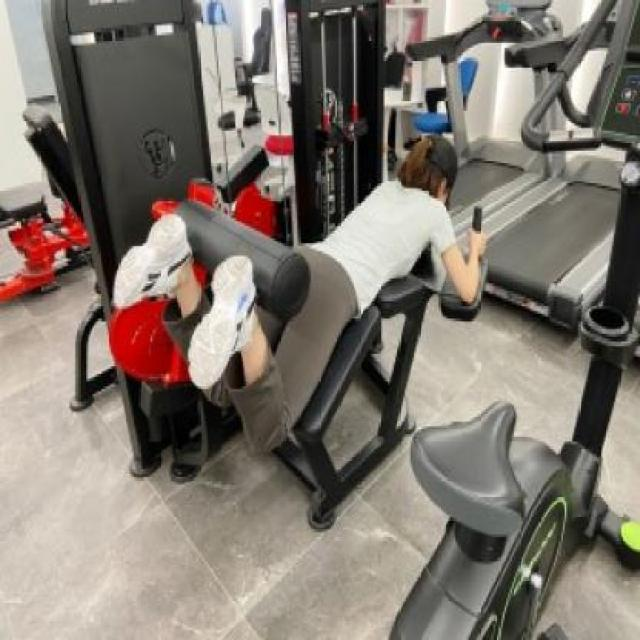reg curl machine: (36, 0, 495, 532)
